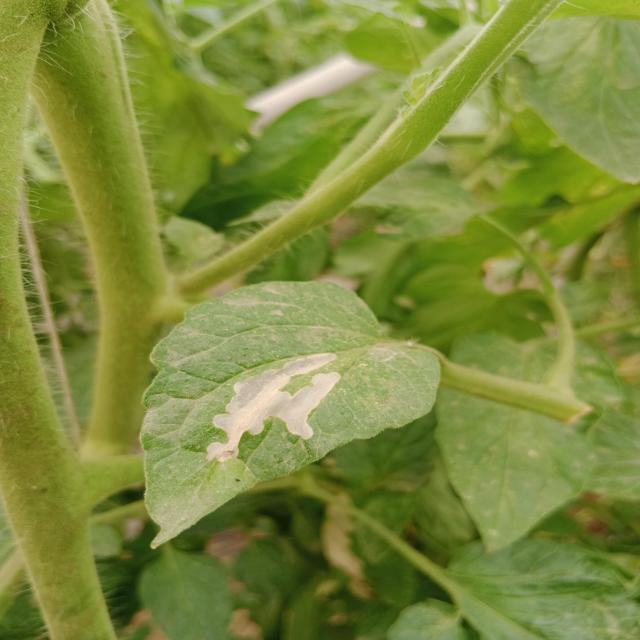Tuta absoluta: (188, 349, 354, 465)
